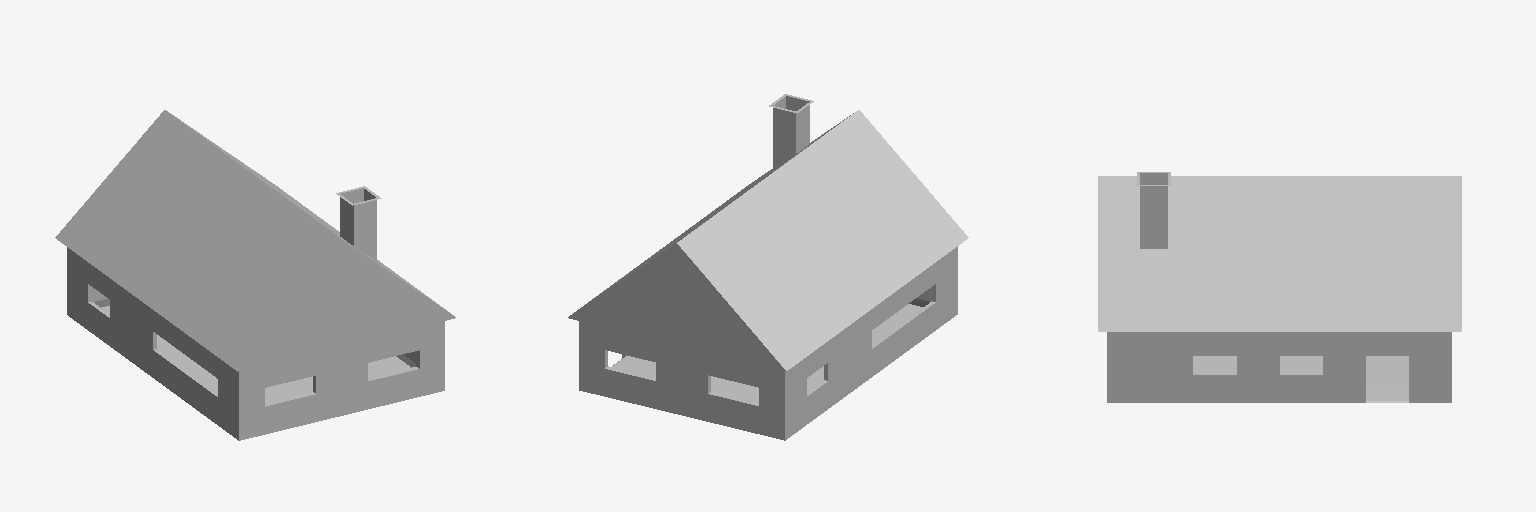
Rendered from house.obj.
3 views of the same model, side by side, from view 1: azimuth 30°, elevation 25°; view 2: azimuth 150°, elevation 25°; view 3: azimuth 270°, elevation 25° (orthographic).
Parts seen in each view (by area): view 1: Cube_Cube.001, Cube.001_Cube.002; view 2: Cube_Cube.001, Cube.001_Cube.002; view 3: Cube_Cube.001, Cube.001_Cube.002.
Boxes of the visible parts, x1,y1,x2,y2 form: Cube_Cube.001: [55, 110, 455, 440]; Cube.001_Cube.002: [336, 186, 381, 261]; Cube_Cube.001: [568, 110, 968, 440]; Cube.001_Cube.002: [769, 94, 813, 169]; Cube_Cube.001: [1098, 176, 1461, 402]; Cube.001_Cube.002: [1137, 172, 1170, 248].
Size of the model in its own units: 8.51 by 7.14 by 12.24.